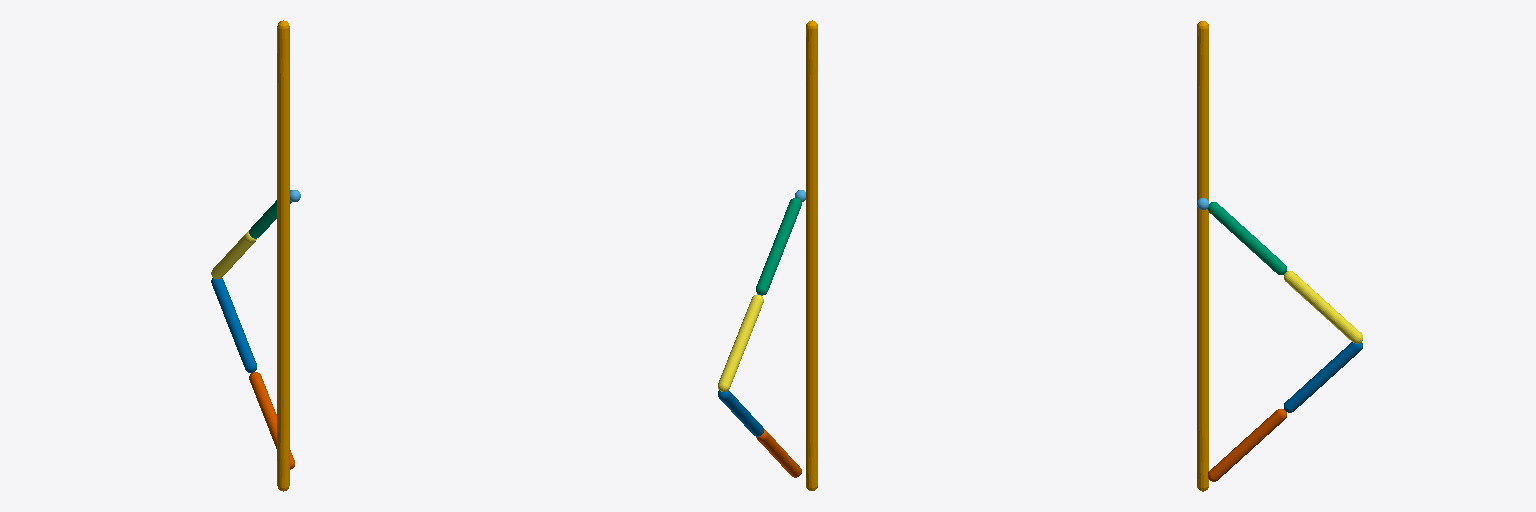
robot.urdf — basic_flex_jumper:
<?xml version="1.0" ?>
<robot name="basic_flex_jumper">

<material name="silver">
  <color rgba="0.700 0.700 0.700 1.000"/>
</material>

<link name="base_link">
  <inertial>
    <origin rpy="0 0 0" xyz="-5.56162567250451e-19 0.0 0.19999999999999984"/>
    <mass value="0.2507252736952454"/>
    <inertia ixx="0.003457275460486081" ixy="-6.972200594645982e-22" ixz="1.673328142715038e-20" iyy="0.003457275460486081" iyz="0.0" izz="3.1237902952194058e-06"/>
  </inertial>
  <visual>
    <origin rpy="0 0 0" xyz="0 0 0"/>
    <geometry>
      <mesh filename="meshes/base_link.stl" scale="0.001 0.001 0.001"/>
    </geometry>
    <material name="silver"/>
    <material/>
  </visual>
  <collision>
    <origin rpy="0 0 0" xyz="0 0 0"/>
    <geometry>
      <mesh filename="meshes/base_link.stl" scale="0.001 0.001 0.001"/>
    </geometry>
  </collision>
</link>

<link name="L_slider1">
  <inertial>
    <origin rpy="0 0 0" xyz="0.01 -4.930380657631324e-34 0.04999999999999996"/>
    <mass value="0.0006754424205218055"/>
    <inertia ixx="6.754424205222039e-09" ixy="-6.525304467998525e-55" ixz="0.0" iyy="6.754424205222039e-09" iyz="-1.7902346272080645e-23" izz="6.7544242052180555e-09"/>
  </inertial>
  <visual>
    <origin rpy="0 0 0" xyz="-0.0 0.0 -0.2"/>
    <geometry>
      <mesh filename="meshes/L_slider1.stl" scale="0.001 0.001 0.001"/>
    </geometry>
    <material name="silver"/>
    <material/>
  </visual>
  <collision>
    <origin rpy="0 0 0" xyz="-0.0 0.0 -0.2"/>
    <geometry>
      <mesh filename="meshes/L_slider1.stl" scale="0.001 0.001 0.001"/>
    </geometry>
  </collision>
</link>

<link name="L_link11">
  <inertial>
    <origin rpy="0 0 0" xyz="1.734723475976807e-18 0.03505203820038748 -0.030052038200433118"/>
    <mass value="0.00827416965151607"/>
    <inertia ixx="4.660974853191145e-06" ixy="4.235164736271502e-22" ixz="3.3881317890172014e-21" iyy="2.3813566838925214e-06" iyz="2.2796181692985964e-06" izz="2.3813566838925723e-06"/>
  </inertial>
  <visual>
    <origin rpy="0 0 0" xyz="-0.01 0.0 -0.25"/>
    <geometry>
      <mesh filename="meshes/L_link11.stl" scale="0.001 0.001 0.001"/>
    </geometry>
    <material name="silver"/>
    <material/>
  </visual>
  <collision>
    <origin rpy="0 0 0" xyz="-0.01 0.0 -0.25"/>
    <geometry>
      <mesh filename="meshes/L_link11.stl" scale="0.001 0.001 0.001"/>
    </geometry>
  </collision>
</link>

<link name="L_link21">
  <inertial>
    <origin rpy="0 0 0" xyz="1.734723475976807e-18 0.033587114601244084 -0.0335871146012896"/>
    <mass value="0.008274169651516072"/>
    <inertia ixx="4.6609748531913076e-06" ixy="3.3881317890172014e-21" ixz="-1.6940658945086007e-21" iyy="2.381356683892657e-06" iyz="2.2796181692985964e-06" izz="2.3813566838926028e-06"/>
  </inertial>
  <visual>
    <origin rpy="0 0 0" xyz="-0.01 -0.061569 -0.193431"/>
    <geometry>
      <mesh filename="meshes/L_link21.stl" scale="0.001 0.001 0.001"/>
    </geometry>
    <material name="silver"/>
    <material/>
  </visual>
  <collision>
    <origin rpy="0 0 0" xyz="-0.01 -0.061569 -0.193431"/>
    <geometry>
      <mesh filename="meshes/L_link21.stl" scale="0.001 0.001 0.001"/>
    </geometry>
  </collision>
</link>

<link name="L_link31">
  <inertial>
    <origin rpy="0 0 0" xyz="3.469446951953614e-18 -0.026516885398710166 -0.033587191002181965"/>
    <mass value="0.008274169651516072"/>
    <inertia ixx="4.660974853191199e-06" ixy="3.3881317890172014e-21" ixz="8.470329472543003e-21" iyy="2.381356683892508e-06" iyz="-2.2796181692985015e-06" izz="2.381356683892589e-06"/>
  </inertial>
  <visual>
    <origin rpy="0 0 0" xyz="-0.01 -0.121673 -0.133327"/>
    <geometry>
      <mesh filename="meshes/L_link31.stl" scale="0.001 0.001 0.001"/>
    </geometry>
    <material name="silver"/>
    <material/>
  </visual>
  <collision>
    <origin rpy="0 0 0" xyz="-0.01 -0.121673 -0.133327"/>
    <geometry>
      <mesh filename="meshes/L_link31.stl" scale="0.001 0.001 0.001"/>
    </geometry>
  </collision>
</link>

<link name="L_link41">
  <inertial>
    <origin rpy="0 0 0" xyz="1.734723475976807e-18 -0.033587961799566704 -0.033587267403038544"/>
    <mass value="0.008274169651516073"/>
    <inertia ixx="4.660974853191172e-06" ixy="2.117582368135751e-21" ixz="4.235164736271502e-22" iyy="2.381356683892586e-06" iyz="-2.2796181692985777e-06" izz="2.381356683892613e-06"/>
  </inertial>
  <visual>
    <origin rpy="0 0 0" xyz="-0.01 -0.06864 -0.073223"/>
    <geometry>
      <mesh filename="meshes/L_link41.stl" scale="0.001 0.001 0.001"/>
    </geometry>
    <material name="silver"/>
    <material/>
  </visual>
  <collision>
    <origin rpy="0 0 0" xyz="-0.01 -0.06864 -0.073223"/>
    <geometry>
      <mesh filename="meshes/L_link41.stl" scale="0.001 0.001 0.001"/>
    </geometry>
  </collision>
</link>

<joint name="J_P_1" type="prismatic">
  <origin rpy="0 0 0" xyz="0.0 0.0 0.2"/>
  <parent link="base_link"/>
  <child link="L_slider1"/>
  <axis xyz="0.0 0.0 1.0"/>
  <limit effort="100" lower="-0.1" upper="0.1" velocity="100"/>
</joint>
<transmission name="J_P_1_tran">
  <type>transmission_interface/SimpleTransmission</type>
  <joint name="J_P_1">
    <hardwareInterface>PositionJointInterface</hardwareInterface>
  </joint>
  <actuator name="J_P_1_actr">
    <hardwareInterface>PositionJointInterface</hardwareInterface>
    <mechanicalReduction>1</mechanicalReduction>
  </actuator>
</transmission>

<joint name="J_C_1" type="continuous">
  <origin rpy="0 0 0" xyz="0.01 0.0 0.05"/>
  <parent link="L_slider1"/>
  <child link="L_link11"/>
  <axis xyz="1.0 0.0 0.0"/>
</joint>
<transmission name="J_C_1_tran">
  <type>transmission_interface/SimpleTransmission</type>
  <joint name="J_C_1">
    <hardwareInterface>PositionJointInterface</hardwareInterface>
  </joint>
  <actuator name="J_C_1_actr">
    <hardwareInterface>PositionJointInterface</hardwareInterface>
    <mechanicalReduction>1</mechanicalReduction>
  </actuator>
</transmission>

<joint name="J_F_1" type="continuous">
  <origin rpy="0 0 0" xyz="0.0 0.061569 -0.056569"/>
  <parent link="L_link11"/>
  <child link="L_link21"/>
  <axis xyz="1.0 0.0 0.0"/>
</joint>
<transmission name="J_F_1_tran">
  <type>transmission_interface/SimpleTransmission</type>
  <joint name="J_F_1">
    <hardwareInterface>PositionJointInterface</hardwareInterface>
  </joint>
  <actuator name="J_F_1_actr">
    <hardwareInterface>PositionJointInterface</hardwareInterface>
    <mechanicalReduction>1</mechanicalReduction>
  </actuator>
</transmission>

<joint name="J_C_2" type="continuous">
  <origin rpy="0 0 0" xyz="0.0 0.060104 -0.060104"/>
  <parent link="L_link21"/>
  <child link="L_link31"/>
  <axis xyz="1.0 0.0 0.0"/>
</joint>
<transmission name="J_C_2_tran">
  <type>transmission_interface/SimpleTransmission</type>
  <joint name="J_C_2">
    <hardwareInterface>PositionJointInterface</hardwareInterface>
  </joint>
  <actuator name="J_C_2_actr">
    <hardwareInterface>PositionJointInterface</hardwareInterface>
    <mechanicalReduction>1</mechanicalReduction>
  </actuator>
</transmission>

<joint name="J_F_2" type="continuous">
  <origin rpy="0 0 0" xyz="0.0 -0.053033 -0.060104"/>
  <parent link="L_link31"/>
  <child link="L_link41"/>
  <axis xyz="1.0 0.0 0.0"/>
</joint>
<transmission name="J_F_2_tran">
  <type>transmission_interface/SimpleTransmission</type>
  <joint name="J_F_2">
    <hardwareInterface>PositionJointInterface</hardwareInterface>
  </joint>
  <actuator name="J_F_2_actr">
    <hardwareInterface>PositionJointInterface</hardwareInterface>
    <mechanicalReduction>1</mechanicalReduction>
  </actuator>
</transmission>

</robot>

--- Render facts (derived) ---
Views: 3 orthographic renders of the robot side by side, from view 1: azimuth 30°, elevation 25°; view 2: azimuth 150°, elevation 25°; view 3: azimuth 270°, elevation 25°.
Model basic_flex_jumper with 6 links and 5 joints (4 continuous, 1 prismatic), rooted at base_link, posed all joints at 0.
Visible links, largest first — view 1: base_link, L_link31, L_link41, L_link21; view 2: base_link, L_link11, L_link21, L_link31, L_link41; view 3: base_link, L_link41, L_link21, L_link11, L_link31.
Link boxes in pixels (x1,y1,x2,y2): base_link: (277,20,289,491); L_link31: (211,278,256,372); L_link41: (249,372,294,469); L_link21: (211,231,256,278); base_link: (806,20,817,490); L_link11: (756,198,801,295); L_link21: (718,294,763,391); L_link31: (718,390,763,436); L_link41: (756,429,801,477); base_link: (1197,21,1208,491); L_link41: (1208,409,1286,481); L_link21: (1284,271,1362,343); L_link11: (1208,202,1286,274); L_link31: (1284,342,1362,412).
Size in the robot's own frame: 0.02 by 0.1316 by 0.41 metres.
Meshes: 6 distinct files referenced, 6 mesh visuals loaded (6 binary STL).
